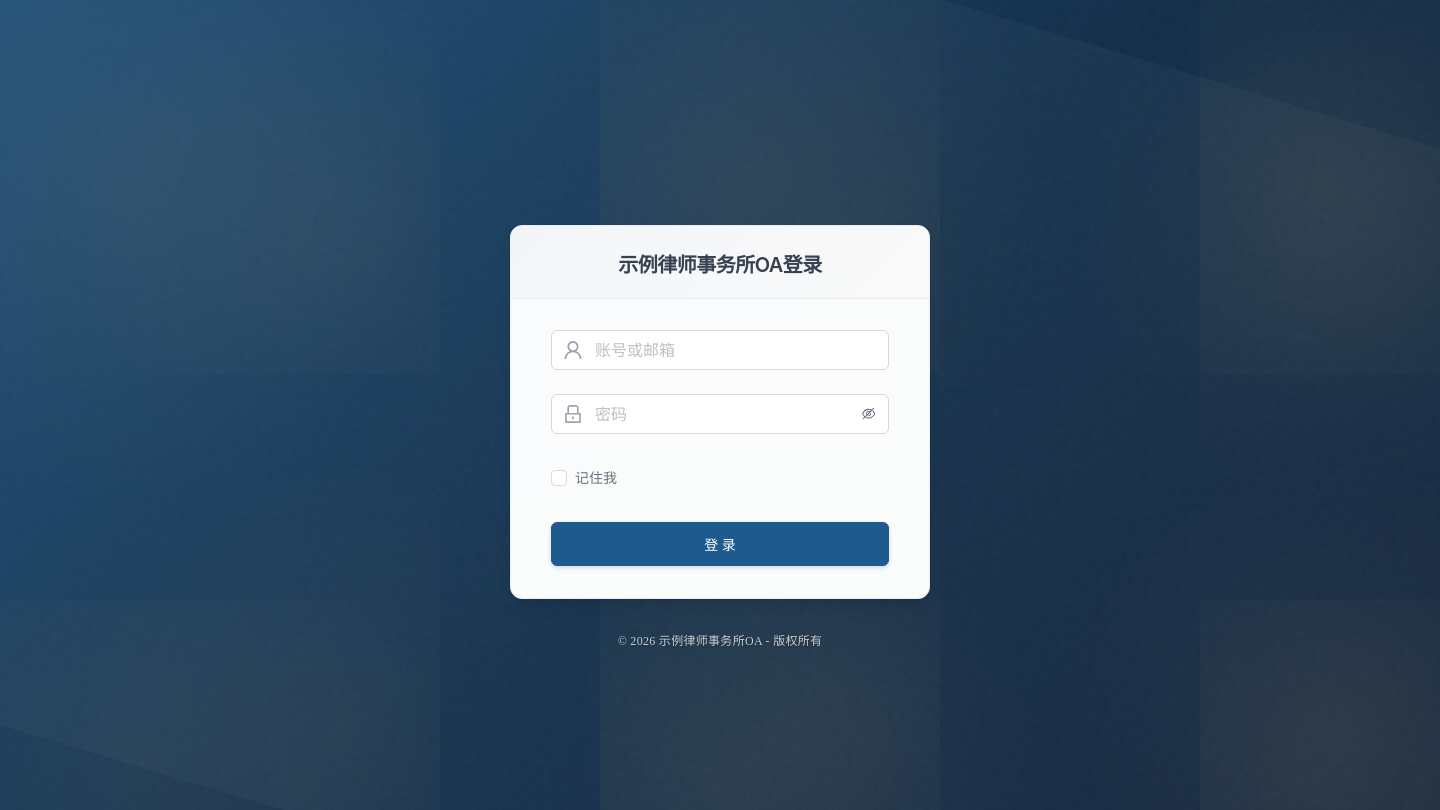
Scenario: LoginPage keyboard accessibility › provides an operable password visibility button with a synchronized name and state
Step 1. Type "secret-value" into the password field labelled "密码" → (722, 414), box [595,402,849,426]
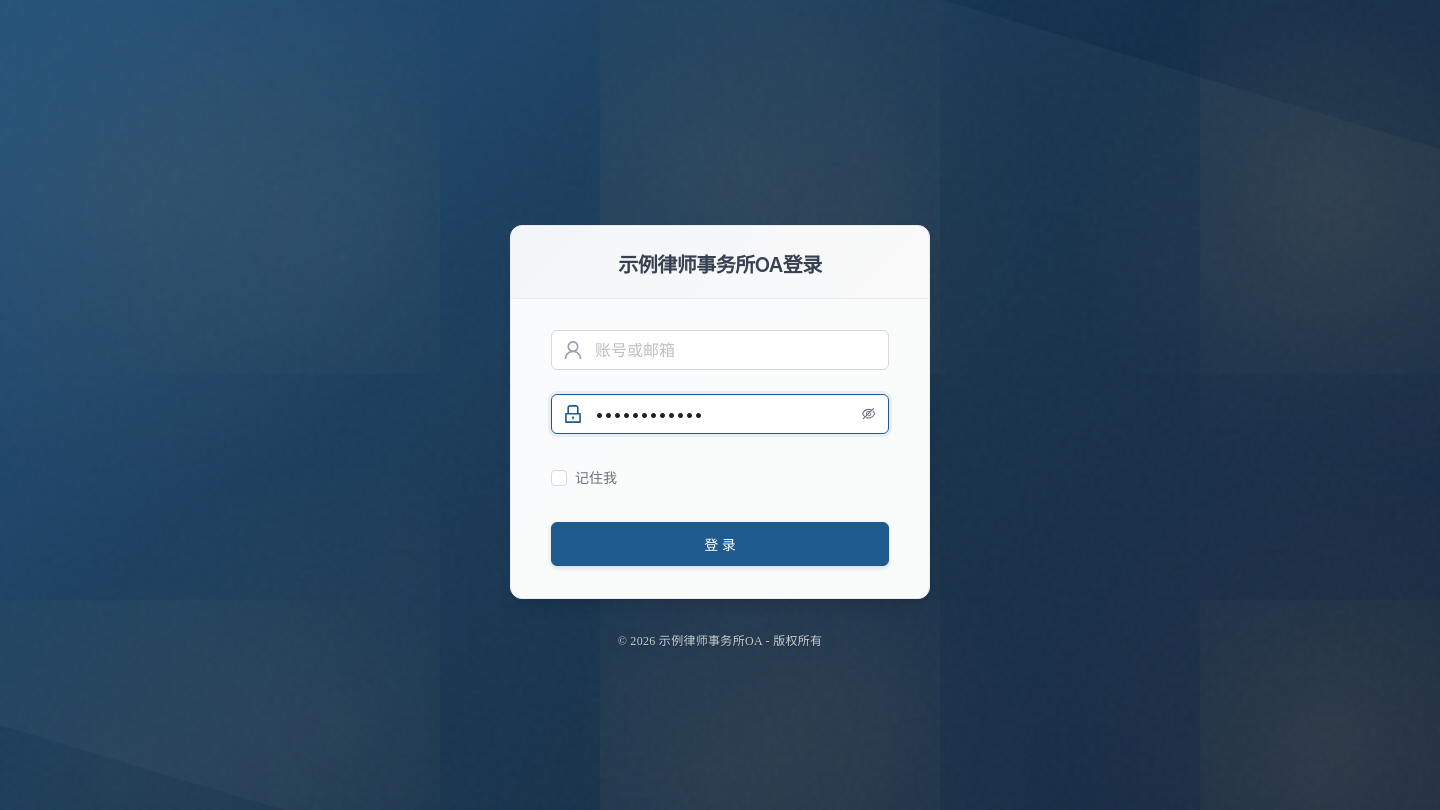
Step 2. Click the button named "显示密码" → (869, 414), box [853,398,885,430]
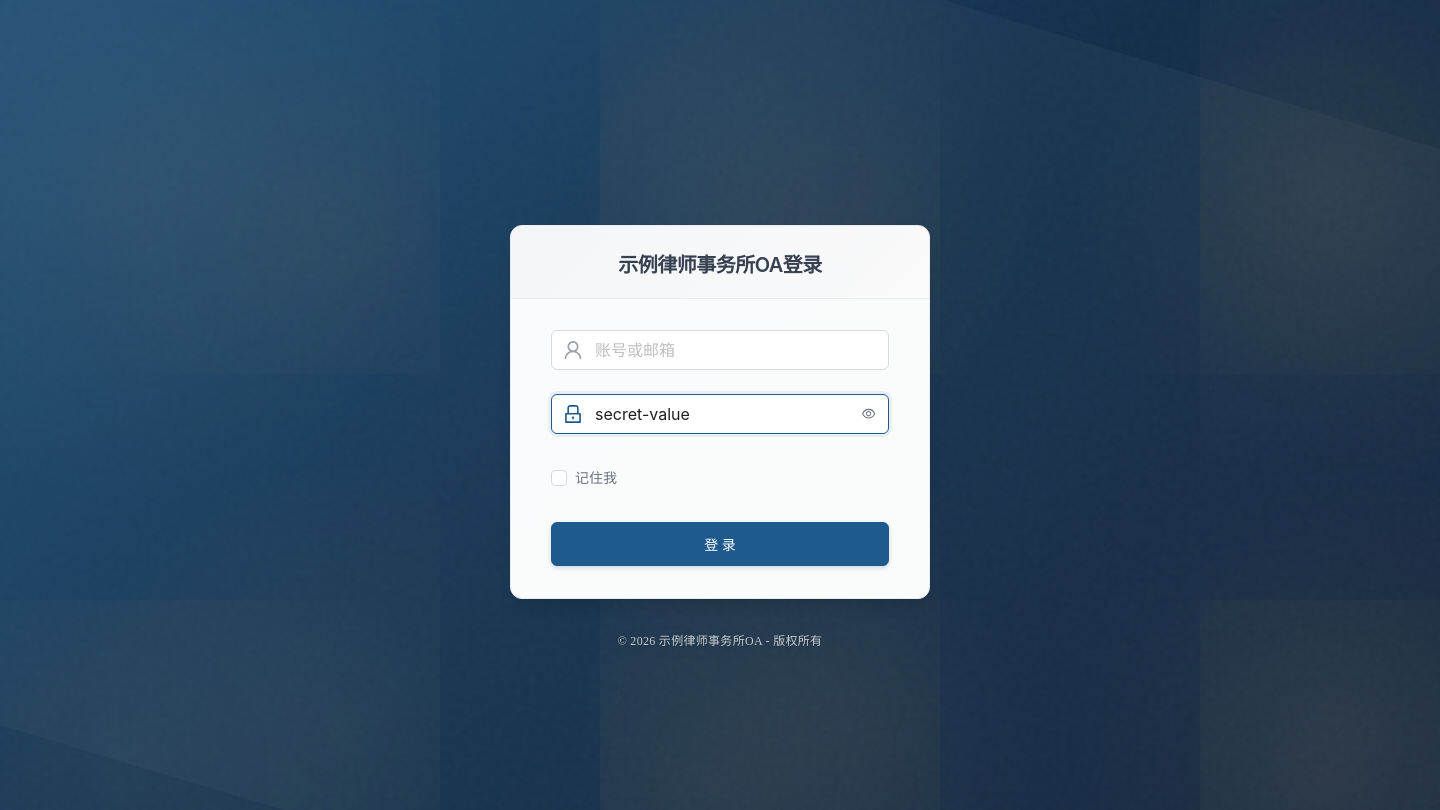
Check: the field named "密码" shows its text, box [595,402,849,426]
Step 3. Click the button named "隐藏密码" → (869, 414), box [853,398,885,430]
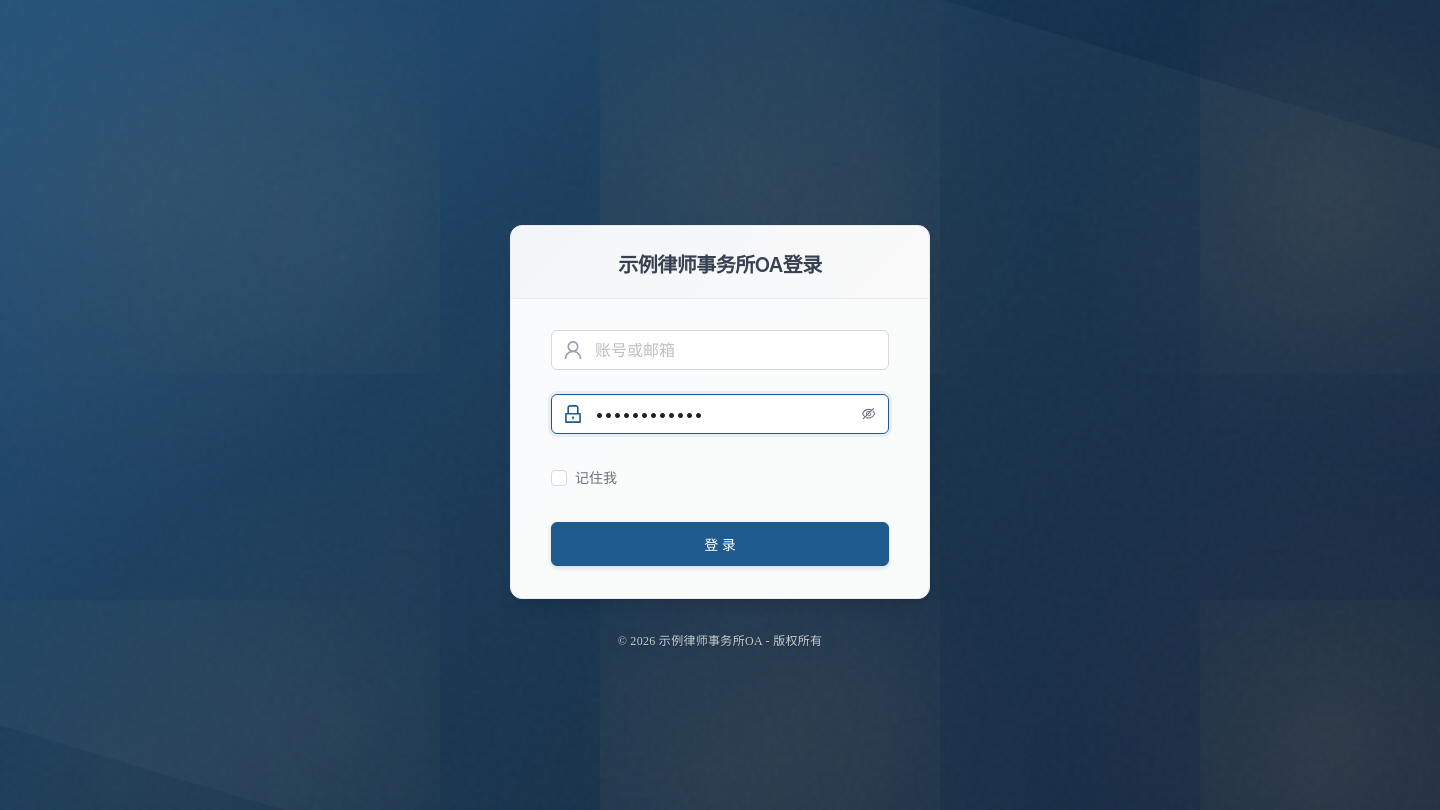
Check: the password field named "密码" hides its text, box [595,402,849,426]
